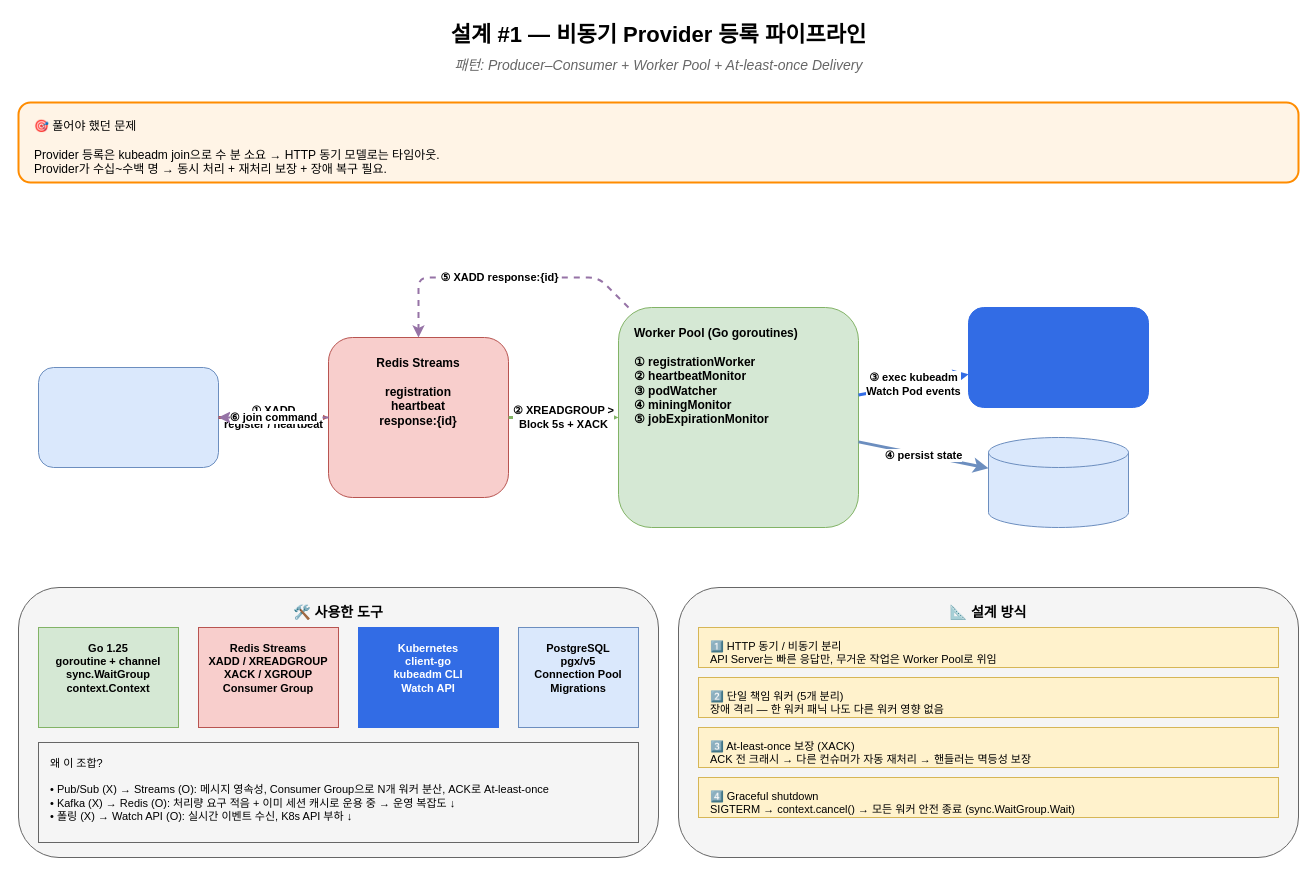
Some shapes in this 1316 by 875 pixel diagram are drawn without their labels. The shapes that lost their labels are listed below. From the top down, each one's centre as x and y in pixels, then its label:
the point at 1058,357: Kubernetes kubeadm token create Pod / Node Watch
the point at 128,417: Provider Agent (GPU 노드 데몬)
the point at 1058,482: PostgreSQL providers table
